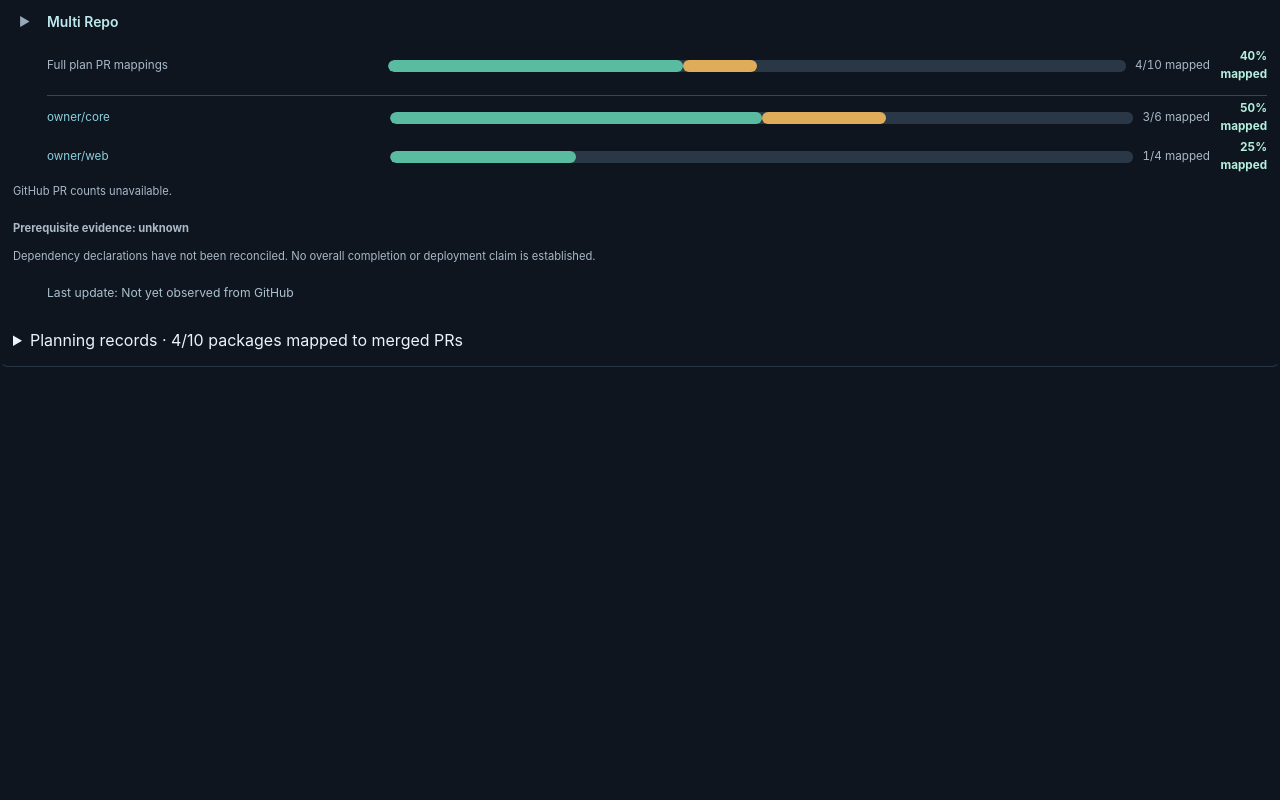
Test: ProjectProgressStack › toggles the project drawer with accessible expansion state
This screenshot has width=1280, height=800.
Click the button named "Expand Multi Repo".
click(24, 22)  # box [13, 11, 36, 34]
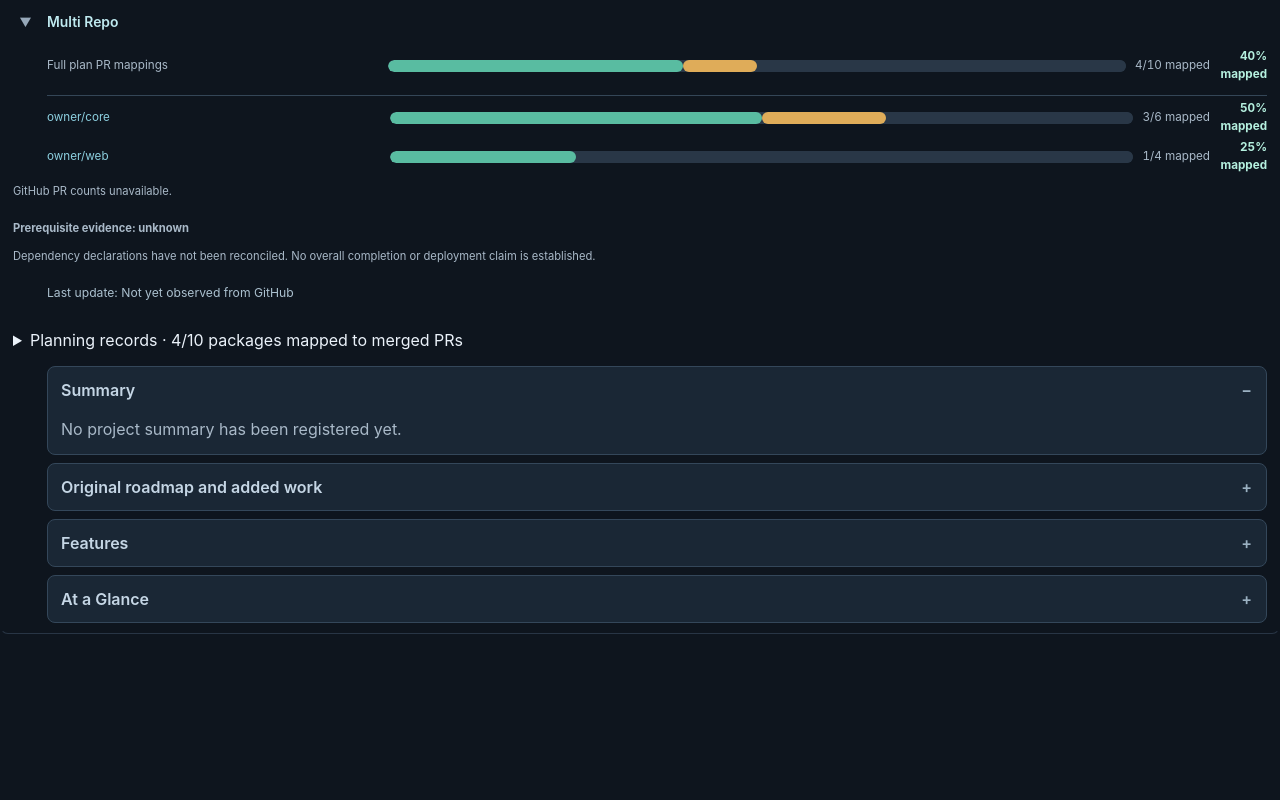
Result: the button named "Collapse Multi Repo" is expanded at [13, 11, 36, 34]
